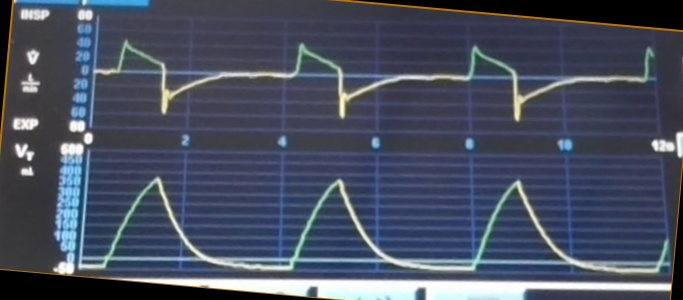Normal Flow: (96, 37, 654, 130)
Normal Volume: (85, 171, 668, 273)
